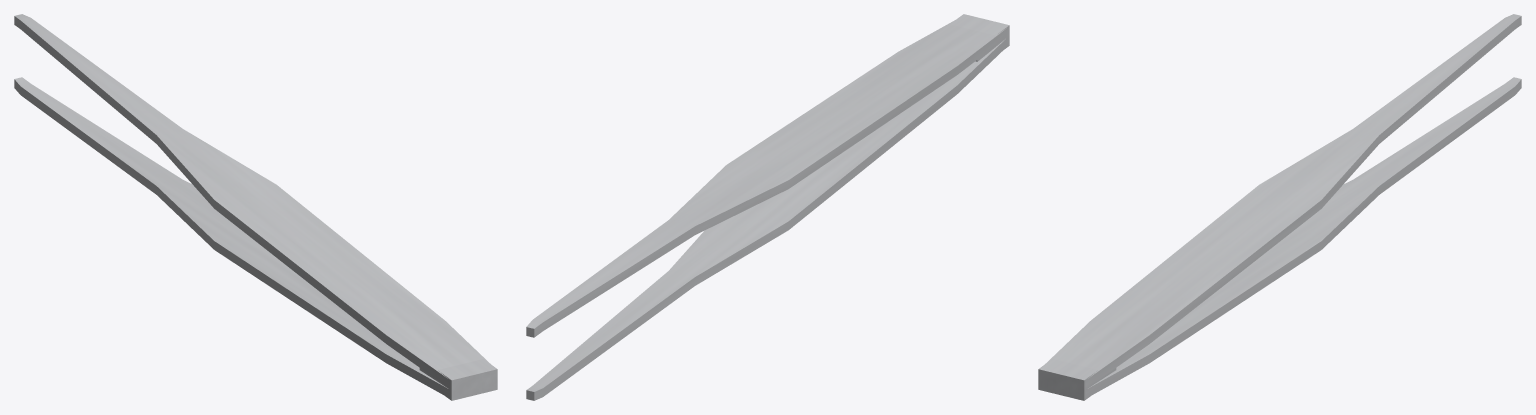
The model's file is s4_adson_forceps.glb.
The picture shows the model from 3 angles, left to right: view 1: azimuth 30°, elevation 25°; view 2: azimuth 150°, elevation 25°; view 3: azimuth 330°, elevation 25°; orthographic projection.
Parts seen in each view (by area): view 1: s4_adson_forceps; view 2: s4_adson_forceps; view 3: s4_adson_forceps.
Boxes of the visible parts, bbox=[...] form: s4_adson_forceps: bbox=[14, 14, 497, 400]; s4_adson_forceps: bbox=[526, 14, 1009, 400]; s4_adson_forceps: bbox=[1038, 14, 1521, 400].
Bounding box in the file's own units: 0.0095 × 0.0109 × 0.1205.
Materials: 1 (1 with a texture image).
